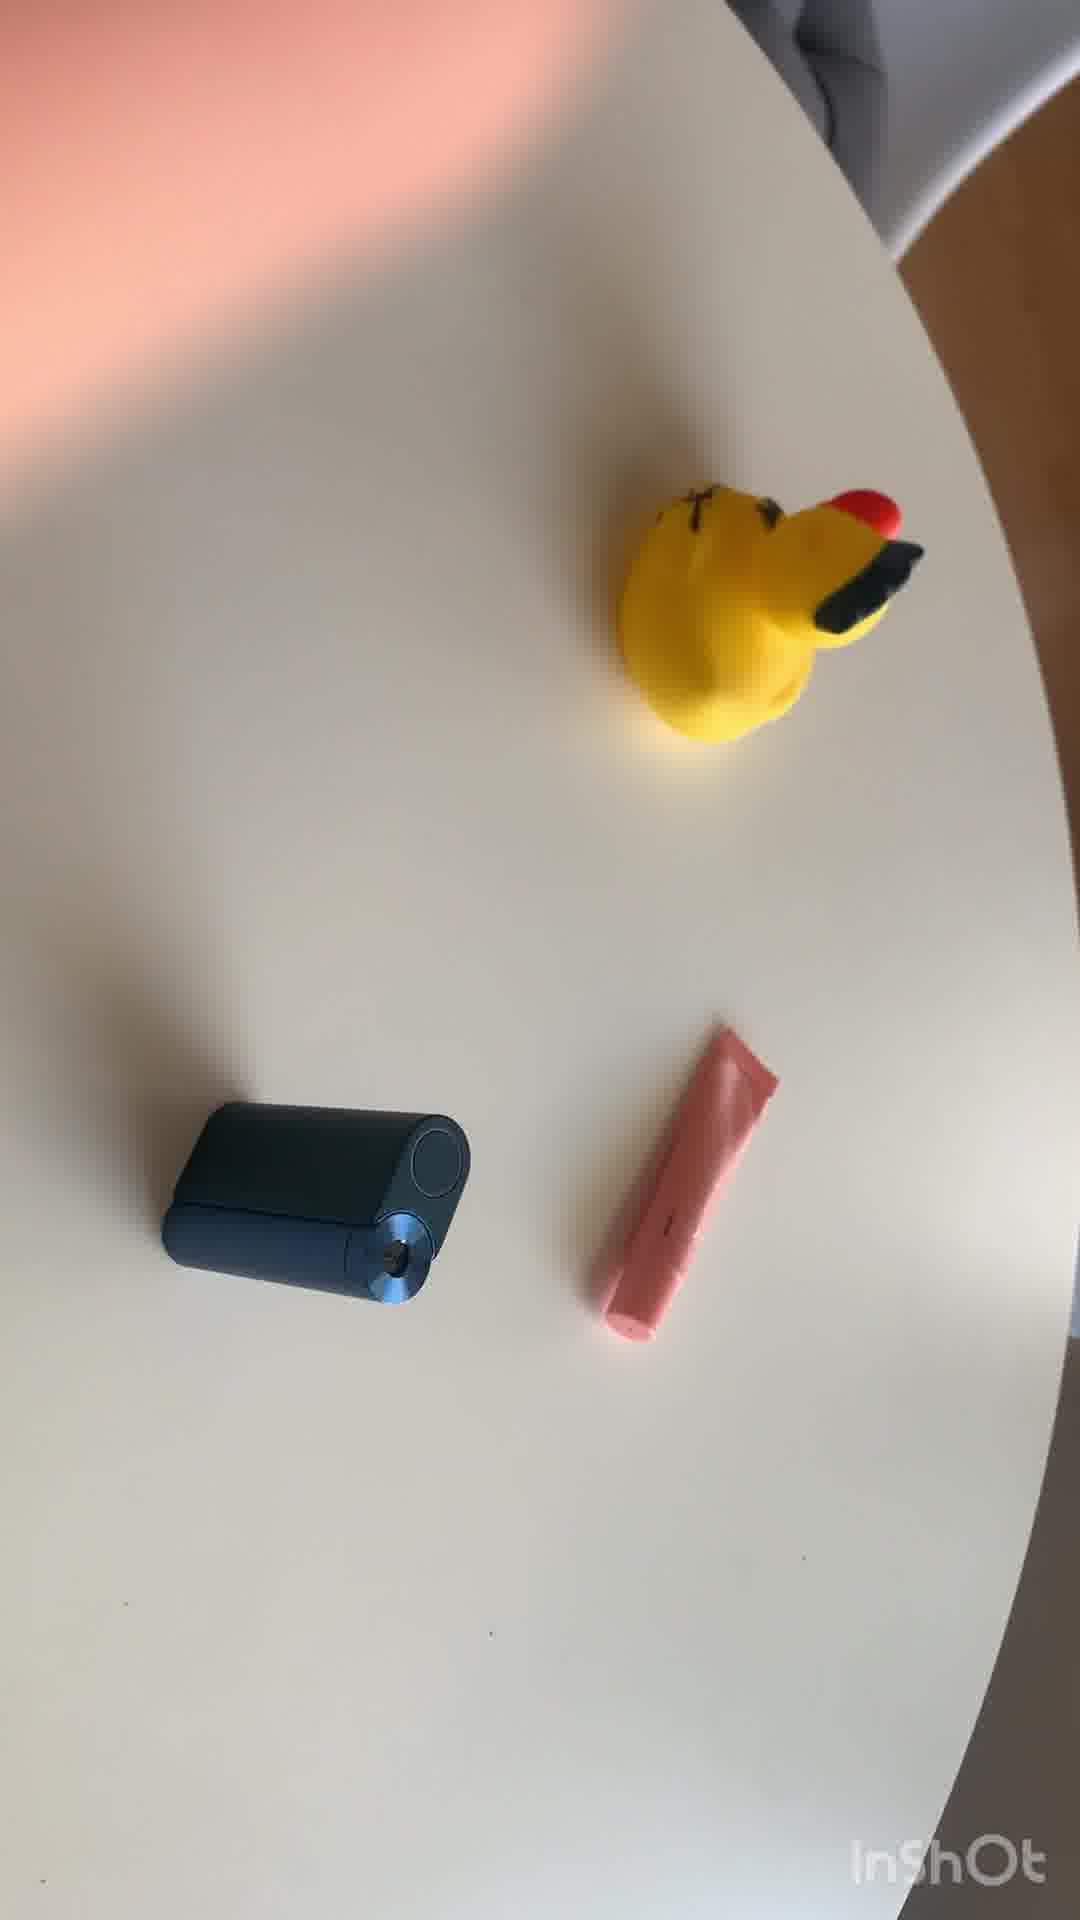duck: (611, 485, 926, 762)
glo: (154, 1091, 477, 1308)
lip balm: (592, 1018, 782, 1346)
